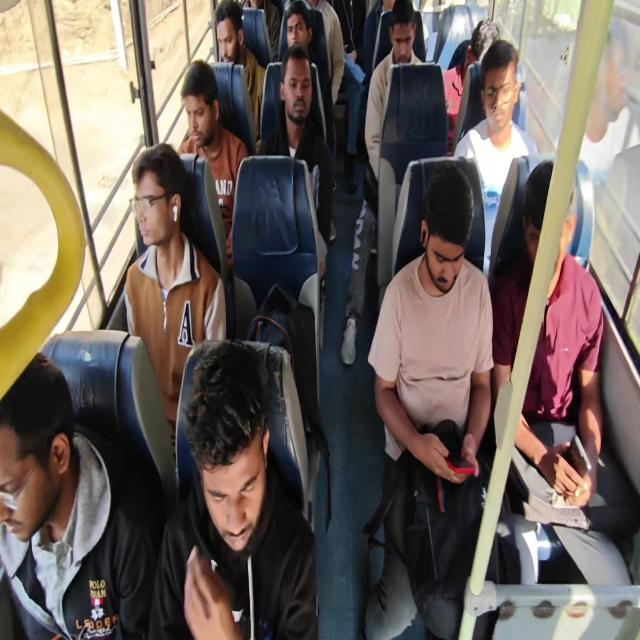person: (179, 340, 276, 545), (1, 356, 72, 548), (412, 167, 483, 294), (128, 143, 188, 255), (527, 158, 576, 285), (475, 44, 529, 146), (180, 54, 223, 154), (280, 46, 316, 139), (204, 0, 250, 61), (389, 0, 426, 70), (284, 2, 313, 59), (468, 15, 494, 53)
